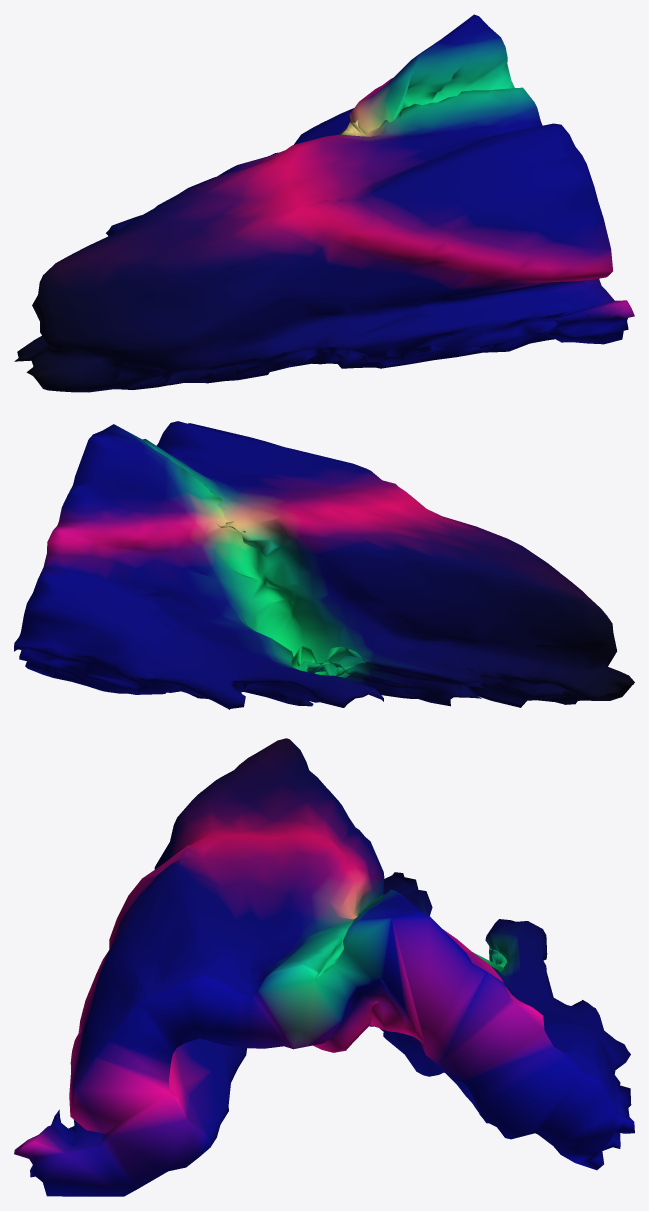
File: silver_vein-u2-cracked-lod0.gltf
3 renders of one model, top to bottom at view 1: azimuth 30°, elevation 25°; view 2: azimuth 150°, elevation 25°; view 3: azimuth 270°, elevation 25°, orthographic. The views are drawn at different scales.
Parts seen in each view (by area): view 1: silver_vein-u2-cracked-lod0; view 2: silver_vein-u2-cracked-lod0; view 3: silver_vein-u2-cracked-lod0.
Part boxes in pixels (box(x1,y1,x2,y2)): silver_vein-u2-cracked-lod0: box(14, 14, 634, 392); silver_vein-u2-cracked-lod0: box(14, 421, 634, 709); silver_vein-u2-cracked-lod0: box(14, 738, 634, 1196).
Bounding box in the file's own units: 0.8336 × 0.3392 × 0.6748.
